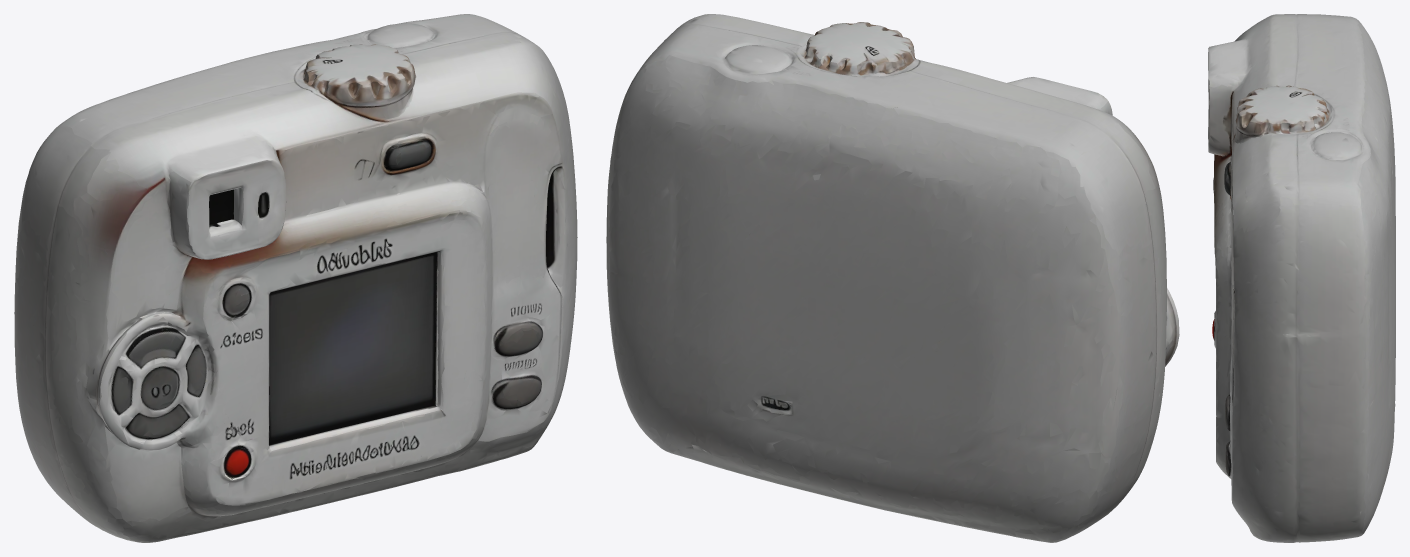
File: cam.glb
3 renders of one model, left to right at view 1: azimuth 30°, elevation 25°; view 2: azimuth 150°, elevation 25°; view 3: azimuth 270°, elevation 25°, orthographic. The views are drawn at different scales.
Visible parts, largest first — view 1: textured_mesh; view 2: textured_mesh; view 3: textured_mesh.
Part boxes in pixels (x1=…): textured_mesh: x1=14, y1=14, x2=577, y2=542; textured_mesh: x1=606, y1=14, x2=1179, y2=542; textured_mesh: x1=1208, y1=14, x2=1395, y2=542.
Size of the model in its own units: 1.99 by 1.53 by 0.7016.
1 material, 1 textured.
